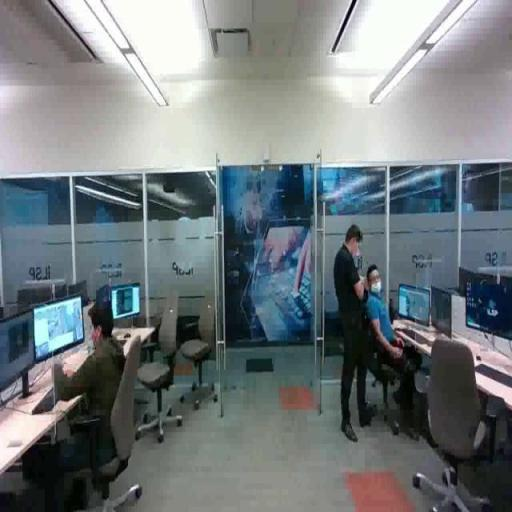person: (37, 297, 133, 512), (367, 259, 431, 435), (335, 222, 378, 443)
